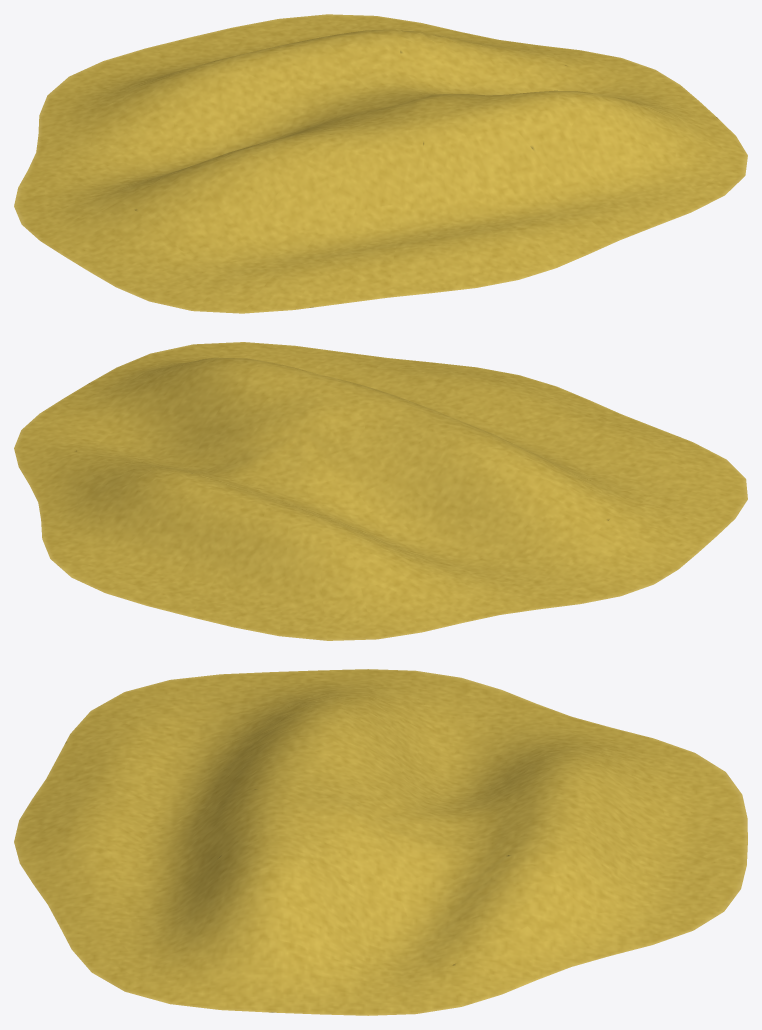
Rendered from underworld-ground-sulfur-drift-rippled.glb.
3 renders of one model, top to bottom at view 1: azimuth 30°, elevation 25°; view 2: azimuth 150°, elevation 25°; view 3: azimuth 270°, elevation 25°, orthographic. The views are drawn at different scales.
Parts seen in each view (by area): view 1: wind-deposit; view 2: wind-deposit; view 3: wind-deposit.
Part boxes in pixels (<box>): wind-deposit: <box>14,14,747,313</box>; wind-deposit: <box>14,342,747,640</box>; wind-deposit: <box>14,669,747,1015</box>.
Size of the model in its own units: 3.8 by 0.4292 by 3.4.
1 material, 1 textured.
